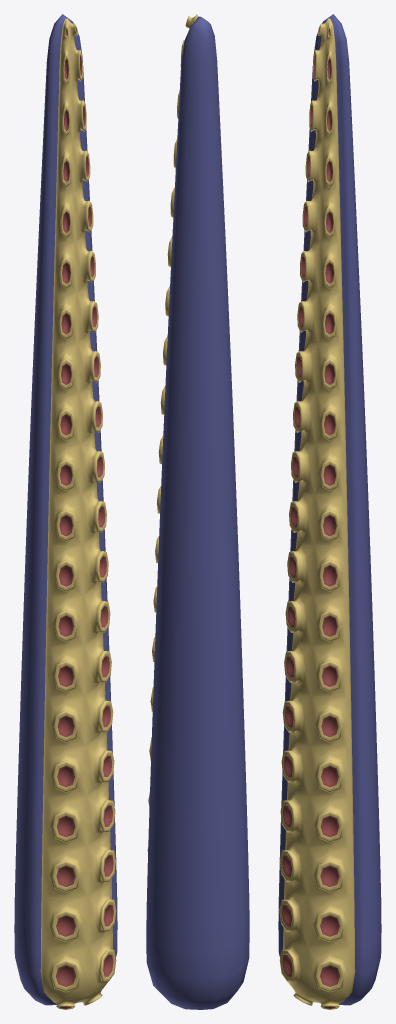
File: Tentacle_Suction UNRIGGED.fbx
The picture shows the model from 3 angles, left to right: view 1: azimuth 30°, elevation 25°; view 2: azimuth 210°, elevation 25°; view 3: azimuth 330°, elevation 25°; orthographic projection.
Parts seen in each view (by area): view 1: Tentacle_SuctionCup.001; view 2: Tentacle_SuctionCup.001; view 3: Tentacle_SuctionCup.001.
Part boxes in pixels (<box>): Tentacle_SuctionCup.001: <box>14,14,117,1009</box>; Tentacle_SuctionCup.001: <box>146,14,249,1009</box>; Tentacle_SuctionCup.001: <box>278,14,381,1009</box>.
Size of the model in its own units: 0.1874 by 0.186 by 2.
